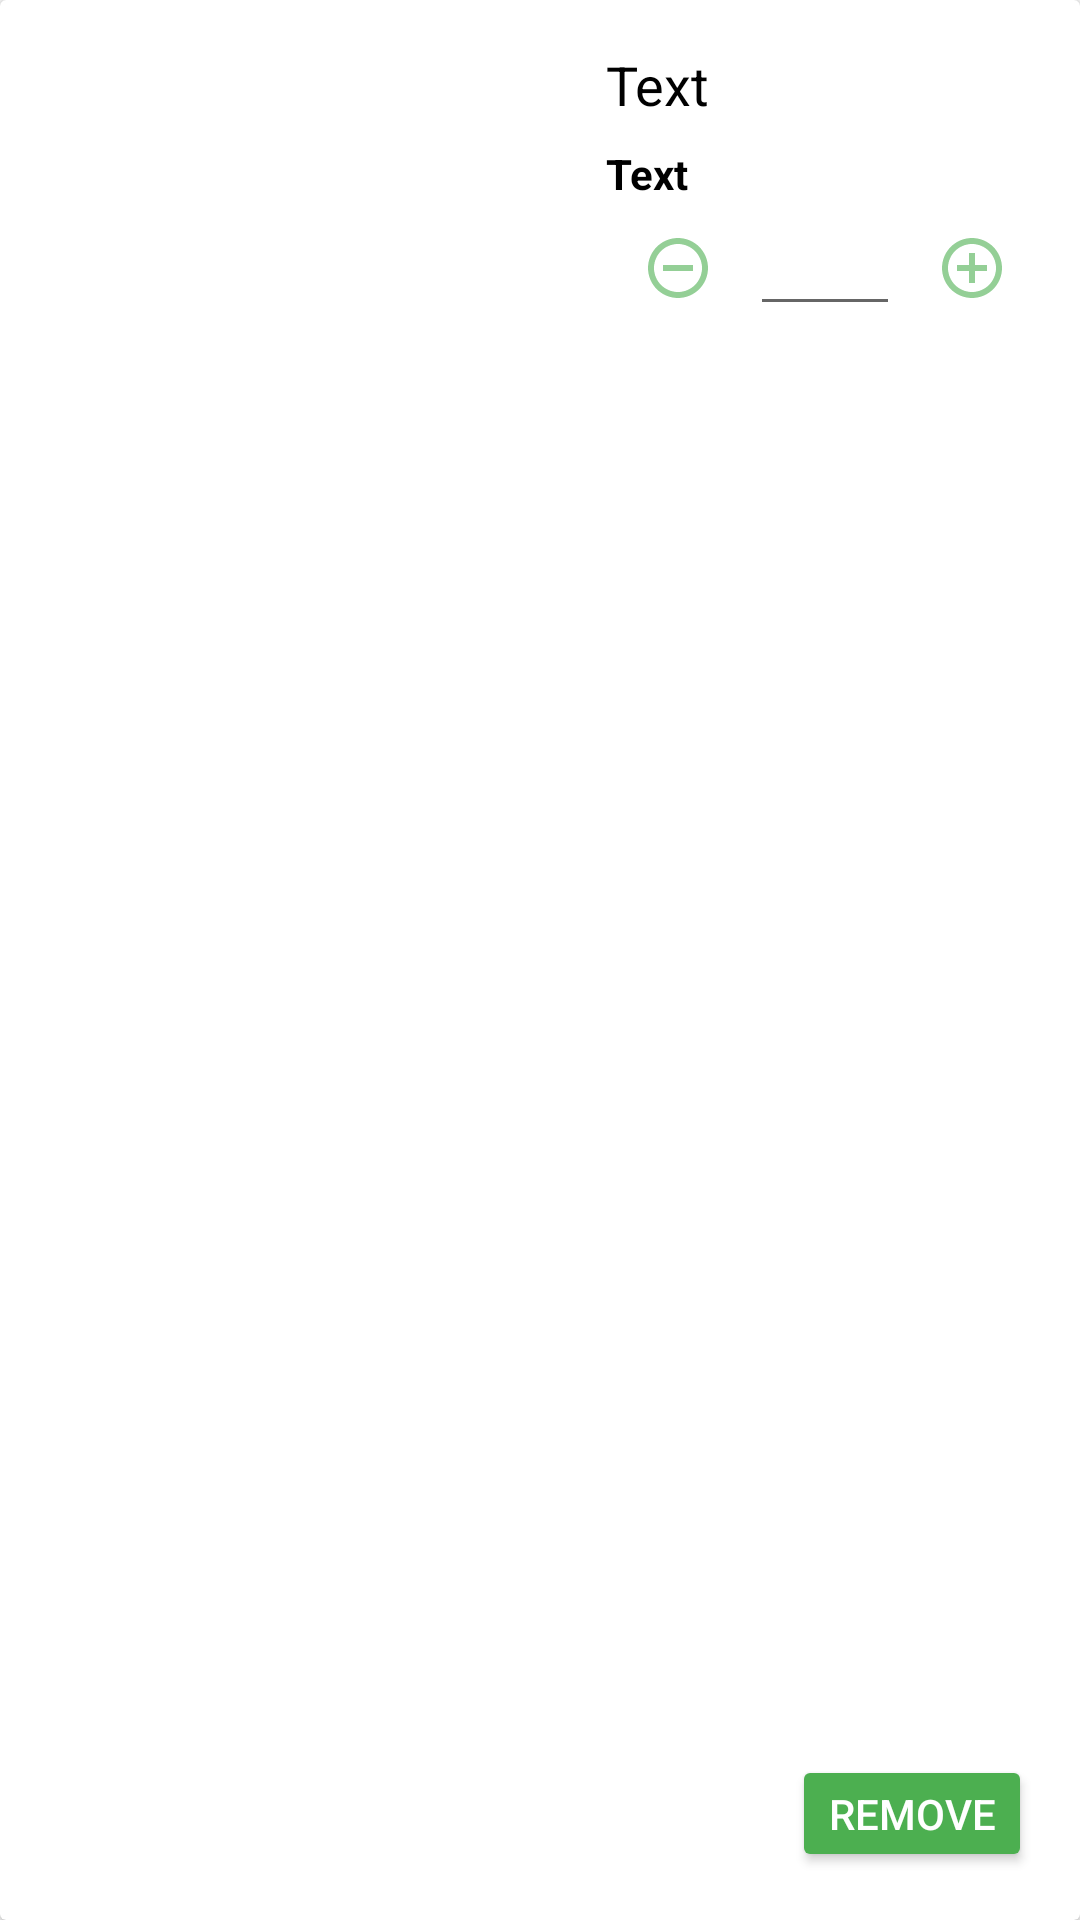

Where icons sit on this 1080px x 1920px app screen, as bbox(x1, y1, x2, y2):
minus: bbox(648, 238, 708, 298)
plus: bbox(942, 238, 1002, 298)
